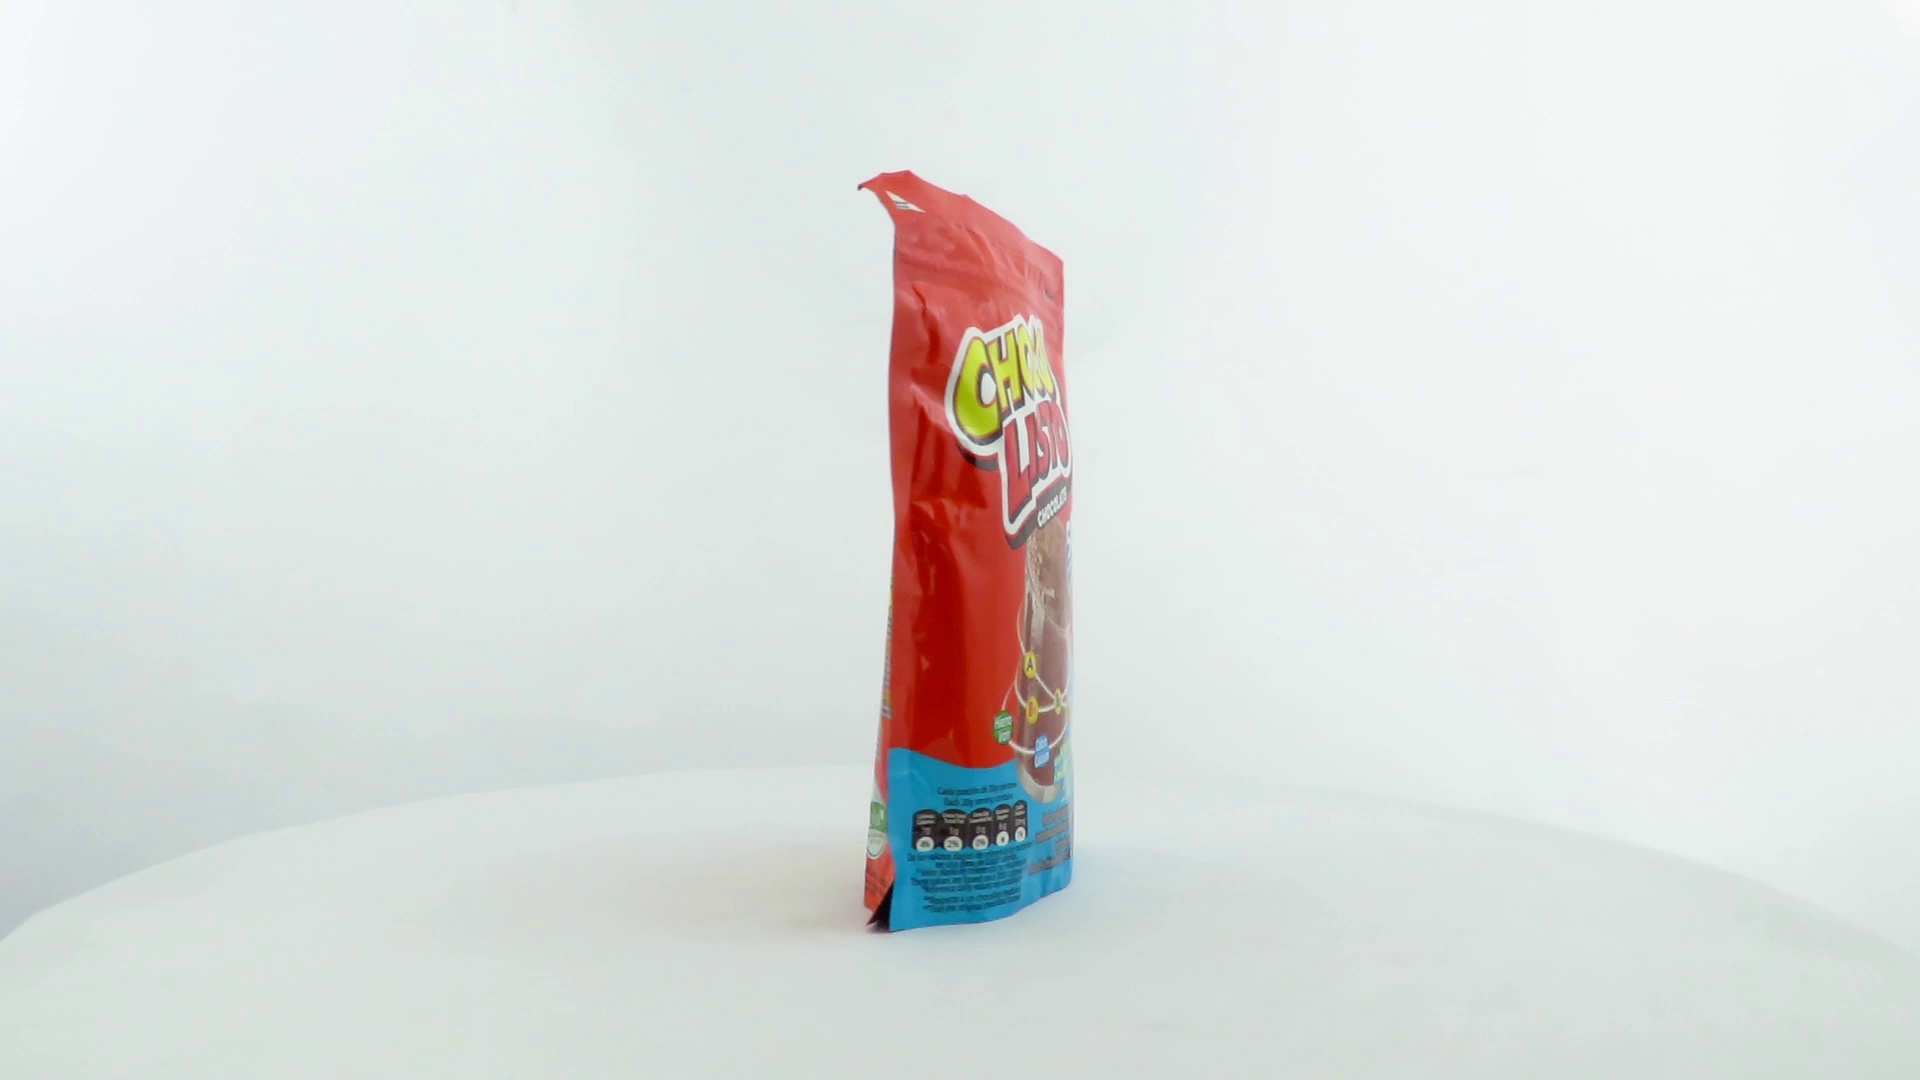COL0170104DYP20000: (853, 165, 1083, 940)
